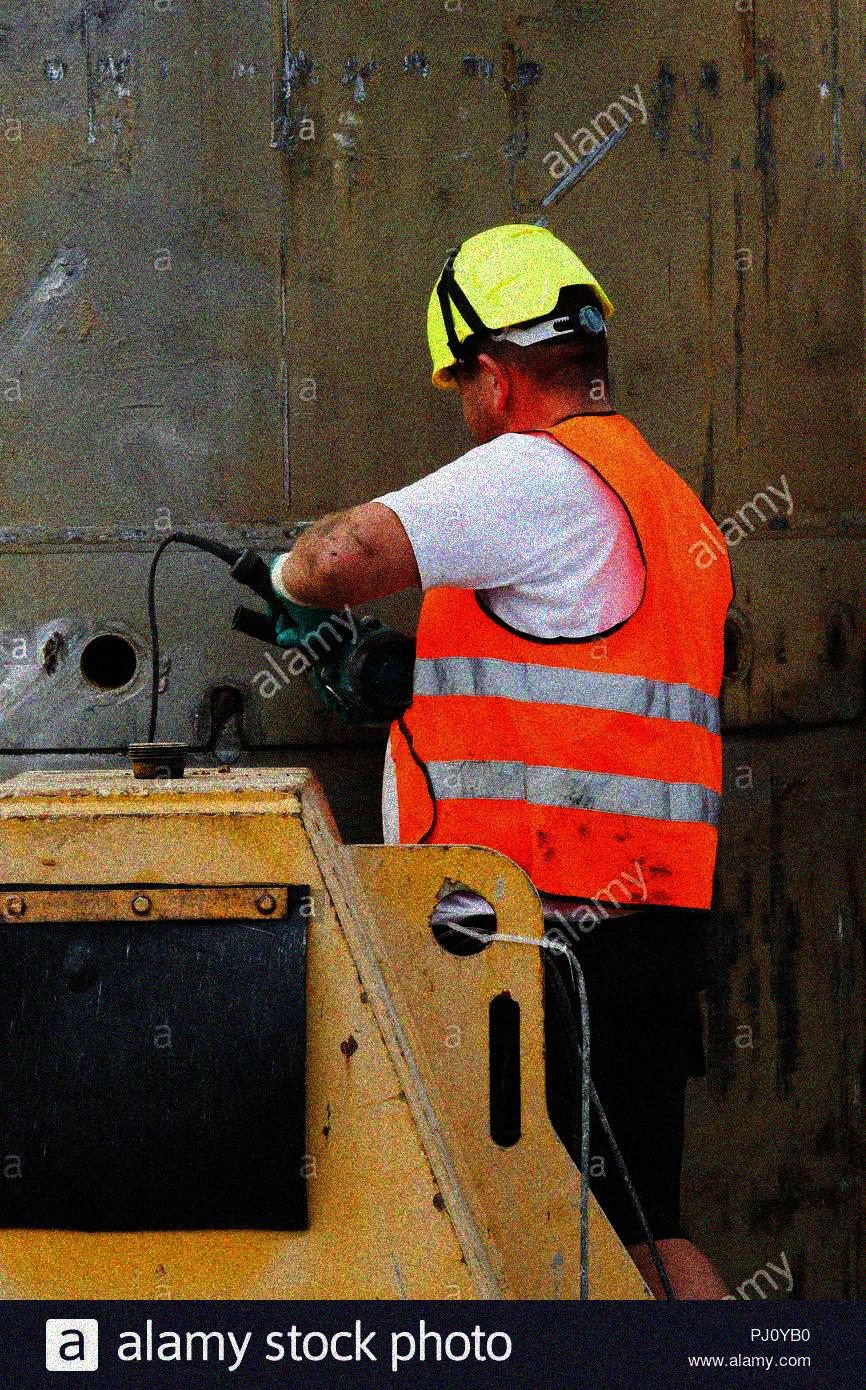helmet: (416, 213, 620, 438)
